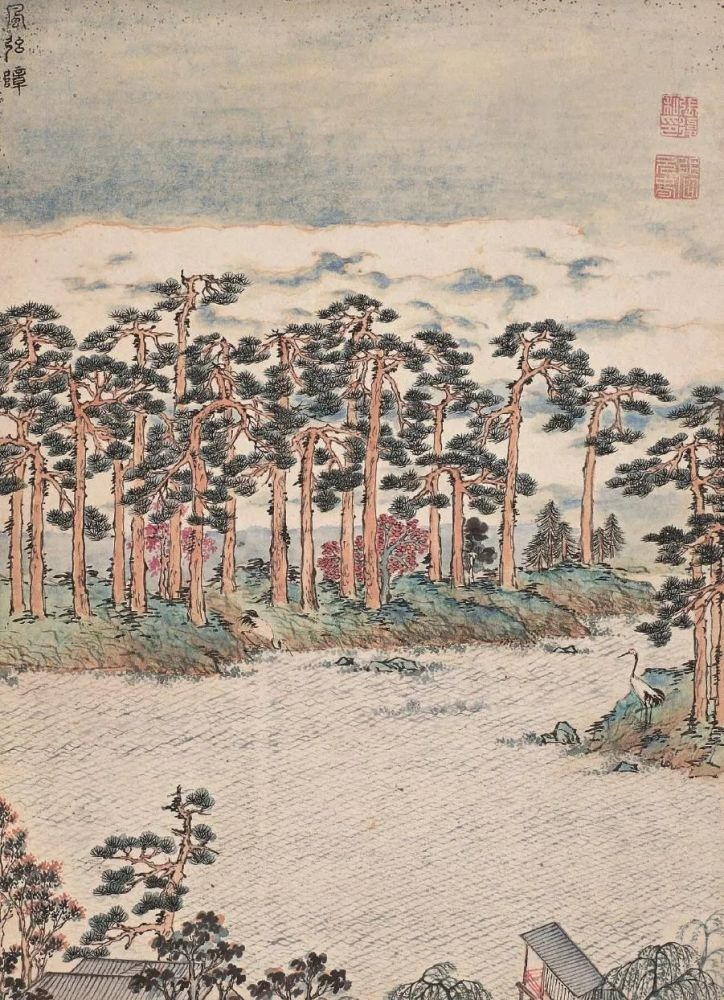cloud: (1, 211, 721, 335)
crane: (613, 646, 663, 738)
grass: (9, 616, 568, 683)
house: (46, 956, 227, 1000), (513, 939, 605, 1000)
river: (18, 695, 724, 959)
tree: (5, 347, 724, 554), (19, 558, 403, 616), (1, 801, 228, 892), (668, 555, 724, 731)
